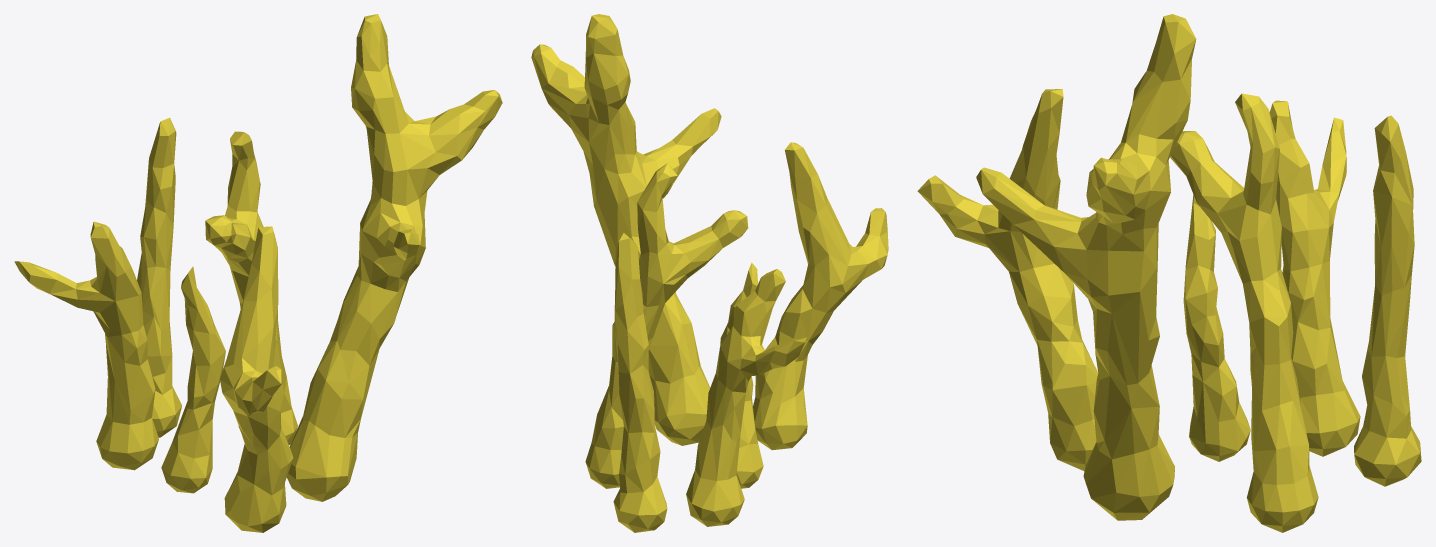
The model's file is coral3.fbx.
3 views of the same model, side by side, from view 1: azimuth 30°, elevation 25°; view 2: azimuth 150°, elevation 25°; view 3: azimuth 270°, elevation 25° (orthographic). The views are drawn at different scales.
Parts seen in each view (by area): view 1: Acropora pulchra; view 2: Acropora pulchra; view 3: Acropora pulchra.
Boxes of the visible parts, <box> form: Acropora pulchra: <box>14,14,502,532</box>; Acropora pulchra: <box>531,14,888,532</box>; Acropora pulchra: <box>917,14,1421,532</box>.
Size of the model in its own units: 3565 by 3969 by 3318.
